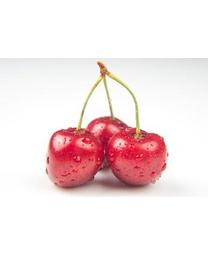cherry: (108, 127, 167, 187), (47, 127, 104, 188), (85, 117, 136, 170)
